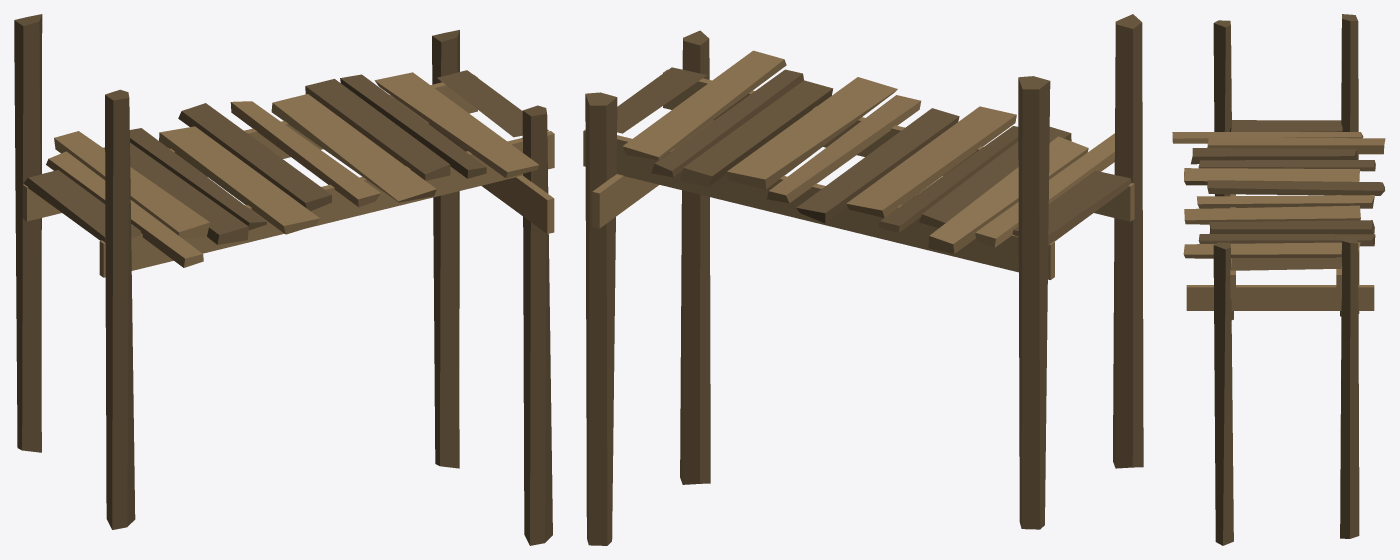
File: docks.glb
3 views of the same model, side by side, from view 1: azimuth 30°, elevation 25°; view 2: azimuth 150°, elevation 25°; view 3: azimuth 270°, elevation 25° (orthographic). The views are drawn at different scales.
Parts seen in each view (by area): view 1: Cube; view 2: Cube; view 3: Cube.
Part boxes in pixels (x1,y1,x2,y2): Cube: [14, 14, 554, 545]; Cube: [583, 14, 1143, 545]; Cube: [1172, 14, 1385, 545].
Size of the model in its own units: 15.01 by 17.72 by 8.89.
